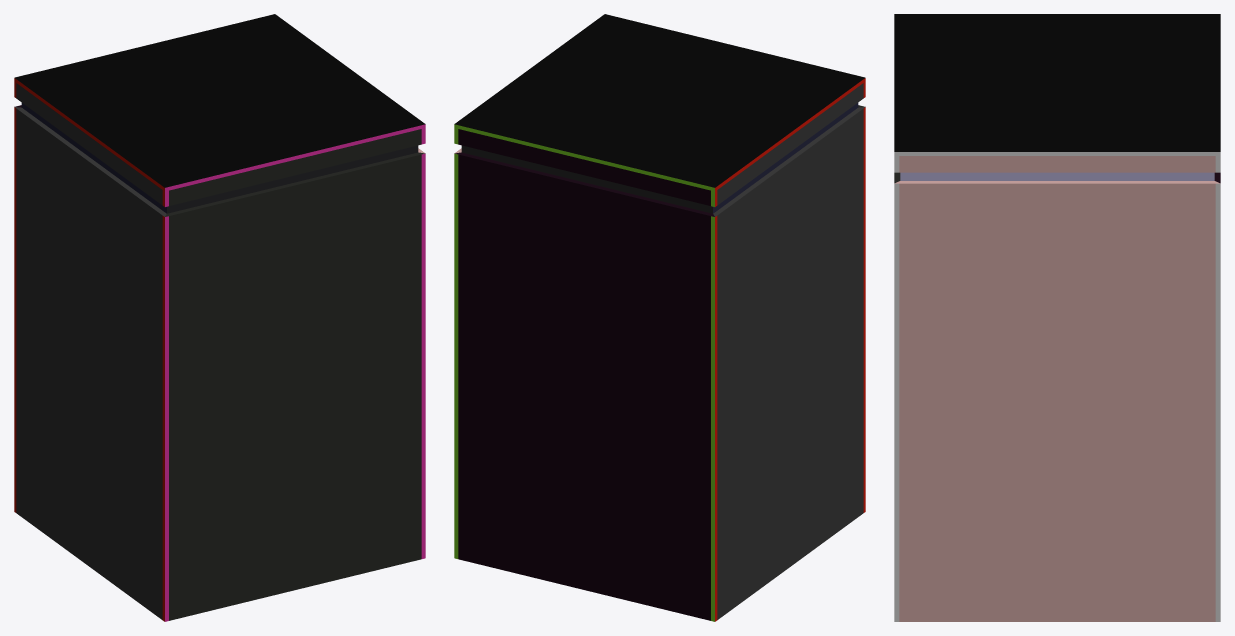
File: SimplePlatform.fbx
The picture shows the model from 3 angles, left to right: view 1: azimuth 30°, elevation 25°; view 2: azimuth 150°, elevation 25°; view 3: azimuth 270°, elevation 25°; orthographic projection. The views are drawn at different scales.
Visible parts, largest first — view 1: Cube; view 2: Cube; view 3: Cube.
Part boxes in pixels (x1=…): Cube: x1=14, y1=14, x2=425, y2=621; Cube: x1=454, y1=14, x2=865, y2=621; Cube: x1=894, y1=14, x2=1220, y2=621.
Size of the model in its own units: 2 by 3.18 by 2.
